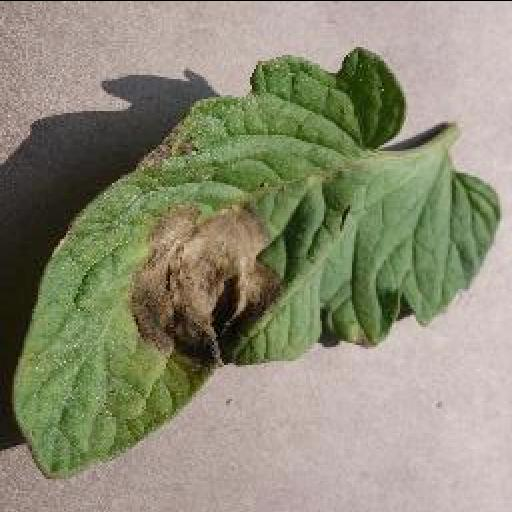disease_tomato: (12, 47, 502, 477)
